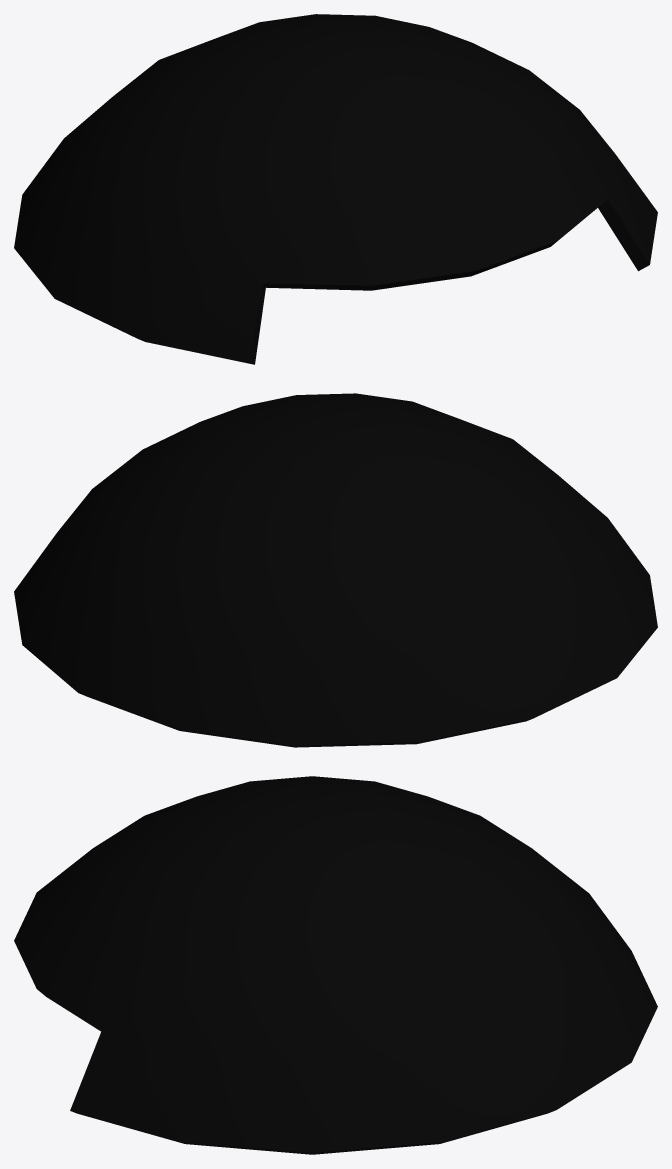
File: Hair_14.fbx
3 renders of one model, top to bottom at view 1: azimuth 30°, elevation 25°; view 2: azimuth 150°, elevation 25°; view 3: azimuth 270°, elevation 25°, orthographic. The views are drawn at different scales.
Parts seen in each view (by area): view 1: Hair_14; view 2: Hair_14; view 3: Hair_14.
Part boxes in pixels (x1,y1,x2,y2): Hair_14: [14, 14, 657, 364]; Hair_14: [14, 393, 657, 747]; Hair_14: [14, 776, 657, 1154].
Bounding box in the file's own units: 93.32 × 30.32 × 86.95.
